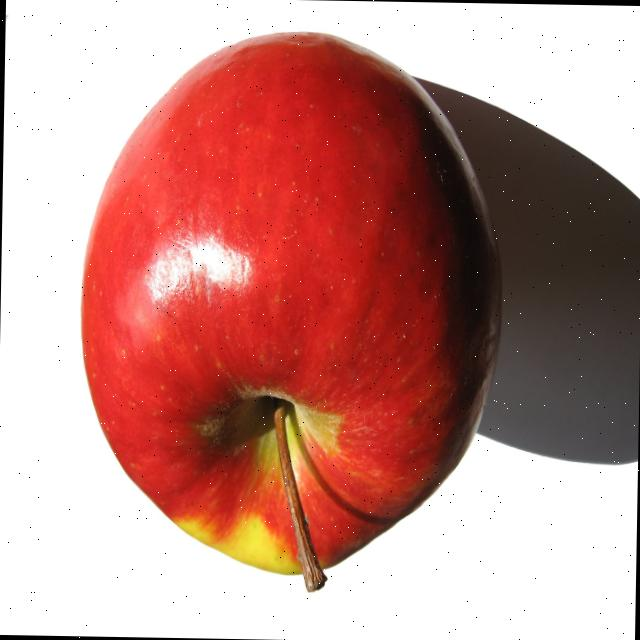Apel: (75, 27, 507, 596)
